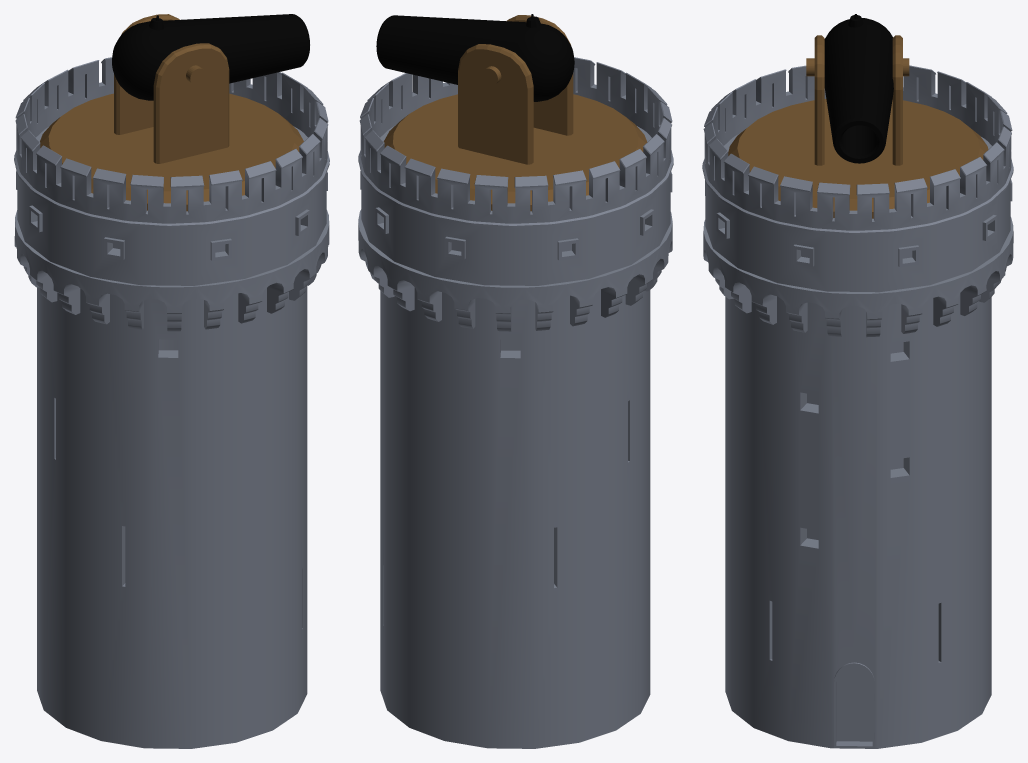
File: SM_TowerWithCannon.fbx
3 renders of one model, left to right at view 1: azimuth 30°, elevation 25°; view 2: azimuth 150°, elevation 25°; view 3: azimuth 270°, elevation 25°, orthographic.
Parts seen in each view (by area): view 1: SM_Tower; view 2: SM_Tower; view 3: SM_Tower.
Part boxes in pixels (x1,y1,x2,y2): SM_Tower: (14,14,329,748); SM_Tower: (358,14,673,748); SM_Tower: (702,14,1013,748).
Size of the model in its own units: 64.2 by 153 by 64.2.
